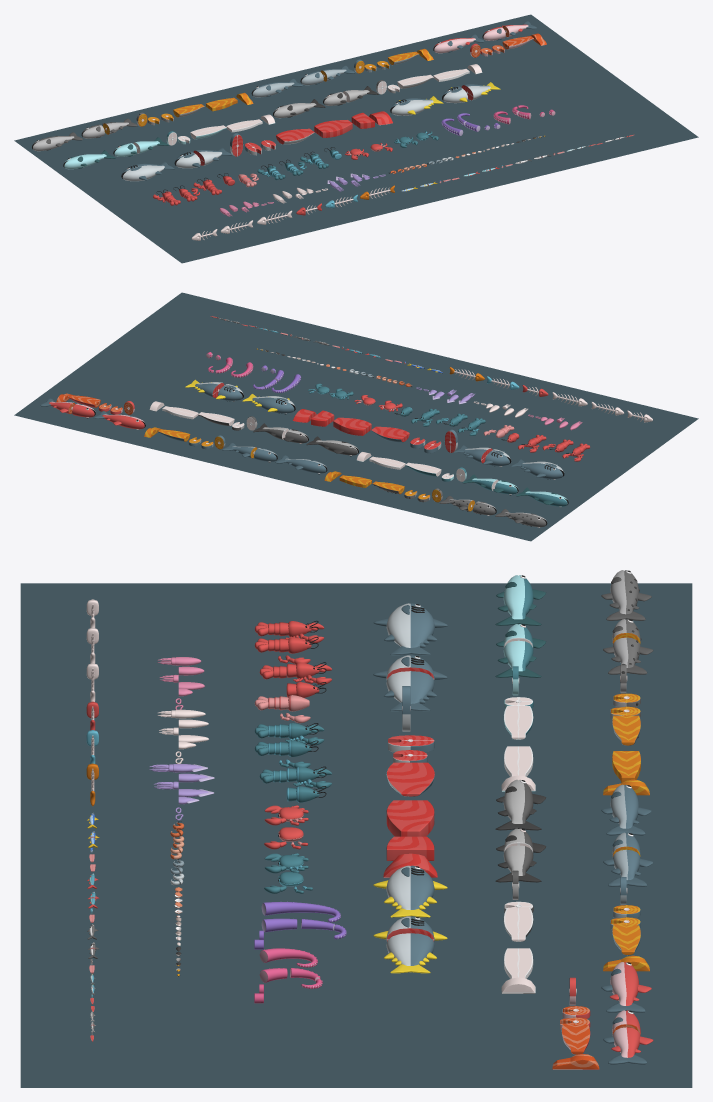
The model's file is DEMO_Seafood.fbx.
3 views of the same model, one above another, from view 1: azimuth 30°, elevation 25°; view 2: azimuth 150°, elevation 25°; view 3: azimuth 270°, elevation 25° (orthographic). The views are drawn at different scales.
Visible parts, largest first — view 1: Plane, Tuna_1, Tuna_2, Tuna_1_Fillet_2, SeaBass_1, SeaBass_2, Salmon_3, Salmon_2, Salmon_1, Tuna_1_Fillet_1; view 2: Plane, Tuna_1, Tuna_2, Tuna_1_Fillet_2, SeaBass_1, SeaBass_2, Salmon_2, Salmon_1, Salmon_3, Tuna_1_Fillet_1; view 3: Plane, Tuna_2, Tuna_1, Tuna_2_Half_2, Tuna_1_Fillet_2, SeaBass_1, SeaBass_2, Salmon_1, Tuna_1_Half_2, Salmon_3, Salmon_2, Tuna_1_Fillet_1 (+16 smaller).
Boxes of the visible parts, left/top/right/bottom form: Plane: left=14, top=14, right=698, bottom=263; Tuna_1: left=121, top=161, right=174, bottom=181; Tuna_2: left=390, top=96, right=443, bottom=115; Tuna_1_Fillet_2: left=314, top=120, right=352, bottom=137; SeaBass_1: left=63, top=150, right=115, bottom=169; SeaBass_2: left=273, top=99, right=325, bottom=118; Salmon_3: left=433, top=34, right=484, bottom=53; Salmon_2: left=251, top=78, right=302, bottom=97; Salmon_1: left=31, top=132, right=82, bottom=151; Tuna_1_Fillet_1: left=276, top=128, right=314, bottom=144; Plane: left=14, top=292, right=698, bottom=541; Tuna_1: left=511, top=459, right=564, bottom=479; Tuna_2: left=242, top=394, right=295, bottom=414; Tuna_1_Fillet_2: left=333, top=417, right=371, bottom=435; SeaBass_1: left=516, top=487, right=568, bottom=507; SeaBass_2: left=306, top=436, right=358, bottom=456; Salmon_2: left=275, top=455, right=327, bottom=474; Salmon_1: left=495, top=509, right=547, bottom=527; Salmon_3: left=93, top=411, right=145, bottom=429; Tuna_1_Fillet_1: left=371, top=426, right=409, bottom=442; Plane: left=20, top=583, right=692, bottom=1087; Tuna_2: left=373, top=865, right=447, bottom=917; Tuna_1: left=373, top=603, right=447, bottom=655; Tuna_2_Half_2: left=384, top=933, right=436, bottom=973; Tuna_1_Fillet_2: left=386, top=800, right=434, bottom=836; SeaBass_1: left=495, top=575, right=545, bottom=625; SeaBass_2: left=495, top=779, right=545, bottom=830; Salmon_1: left=601, top=570, right=651, bottom=620; Tuna_1_Half_2: left=384, top=671, right=436, bottom=711; Salmon_3: left=601, top=962, right=651, bottom=1012; Salmon_2: left=601, top=784, right=651, bottom=835; Tuna_1_Fillet_1: left=386, top=762, right=434, bottom=796.
Size of the model in its own units: 1105 by 46.42 by 622.
